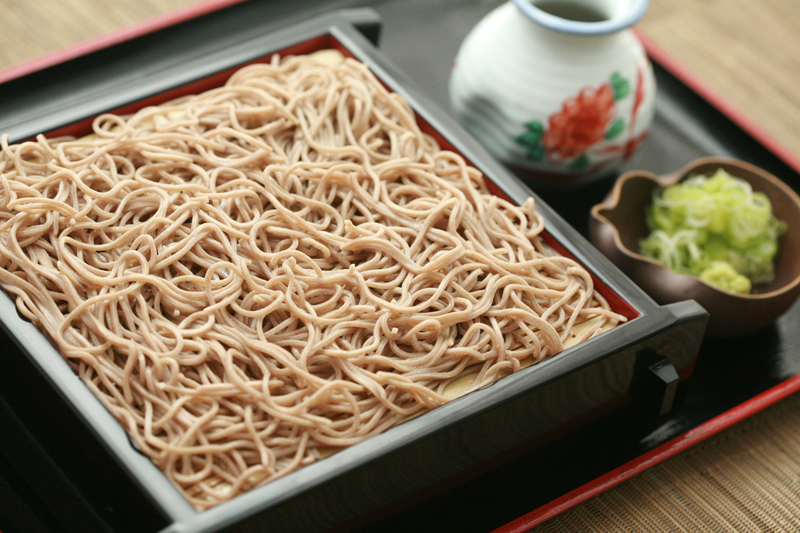Soba: (4, 63, 620, 473)
